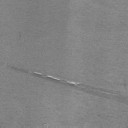finishing roll printing: (8, 65, 128, 104)
